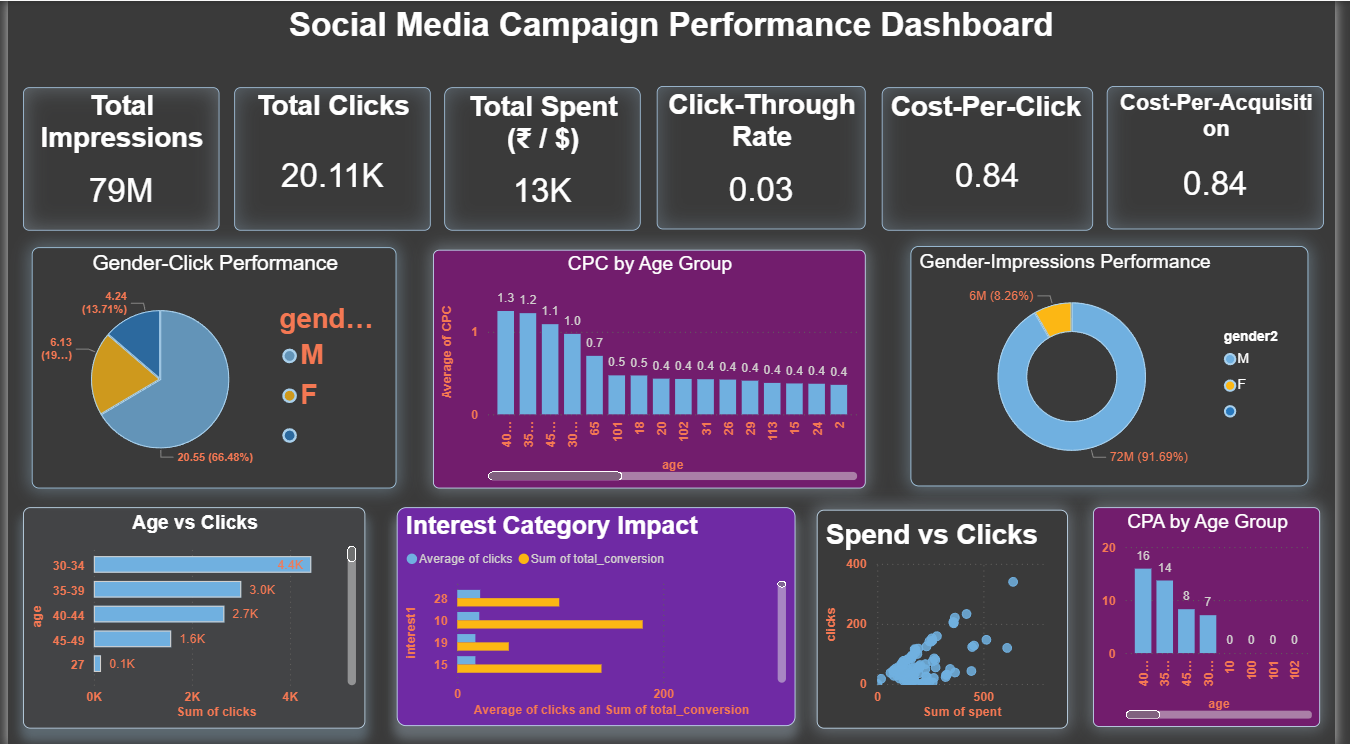

This screenshot's page, from the dashboard's own definition file:
{"tool":"powerbi","page":{"name":"Page 1","canvas":[1280,720],"ordinal":0},"visuals":[{"type":"textbox","box":[0,14.5,1280.2,55.7],"z":0},{"type":"card","title":"Total Impressions","fields":{"Values":["Sum(data.ipressions)"]},"box":[14.5,83.2,189.4,138.7],"z":1000},{"type":"card","title":"Total Spent (₹ / $)","fields":{"Values":["Sum(data.clicks)"]},"box":[421,83.2,189.4,138.7],"z":2000},{"type":"card","title":"Total Clicks","fields":{"Values":["Sum(data.spent)"]},"box":[218.4,83.2,189.4,138.7],"z":3000},{"type":"card","title":"Click-Through Rate","fields":{"Values":["Avg(data.CTR)"]},"box":[626.1,82,201.5,138.7],"z":4000},{"type":"card","title":"Cost-Per-Acquisition","fields":{"Values":["Avg(data.CPC)"]},"box":[1060.5,82,209.9,138.7],"z":5000},{"type":"card","title":"Cost-Per-Click","fields":{"Values":["Avg(data.CPC)"]},"box":[843.3,83.2,203.9,138.7],"z":6000},{"type":"clusteredBarChart","title":"Age vs Clicks","fields":{"Category":["data.age"],"Y":["Sum(data.clicks)"]},"box":[14.5,488.6,330.6,213.5],"z":7000},{"type":"pieChart","title":"Gender-Click Performance","fields":{"Y":["Avg(data.clicks)"],"Category":["data.gender2"]},"box":[22.9,237.7,352.3,232.8],"z":8000},{"type":"donutChart","title":"Gender-Impressions Performance","fields":{"Y":["Sum(data.ipressions)"],"Category":["data.gender2"]},"box":[871.1,236.5,383.6,231.6],"z":9000},{"type":"clusteredColumnChart","title":"CPA by Age Group","fields":{"Y":["Avg(data.CPA)"],"Category":["data.age"]},"box":[1047.2,488.6,219.6,212.3],"z":10000},{"type":"clusteredColumnChart","title":"CPC by Age Group","fields":{"Category":["data.age"],"Y":["Avg(data.CPC)"]},"box":[410.2,240.1,417.4,230.4],"z":11000},{"type":"scatterChart","title":"Spend vs Clicks","fields":{"Y":["data.clicks"],"X":["data.spent"]},"box":[780.6,491,242.5,211.1],"z":12000},{"type":"clusteredBarChart","title":"Interest Category Impact","fields":{"Category":["data.interest1","data.interest2","data.interest3"],"Y":["Avg(data.clicks)","Sum(data.total_conversion)"]},"box":[375,490.5,384.5,211.9],"z":13000}]}

Visuals, with their boxes in screenshot pixels (x1, y1, x2, y2), scaled from the page's 1280x720 canvas onto the 1350x744 screenshot:
textbox: Rect(0, 15, 1349, 73)
"Total Impressions" card: Rect(15, 86, 215, 229)
"Total Spent (₹ / $)" card: Rect(444, 86, 644, 229)
"Total Clicks" card: Rect(230, 86, 430, 229)
"Click-Through Rate" card: Rect(660, 85, 873, 228)
"Cost-Per-Acquisition" card: Rect(1118, 85, 1340, 228)
"Cost-Per-Click" card: Rect(889, 86, 1104, 229)
"Age vs Clicks" clusteredBarChart: Rect(15, 505, 364, 726)
"Gender-Click Performance" pieChart: Rect(24, 246, 396, 486)
"Gender-Impressions Performance" donutChart: Rect(919, 244, 1323, 484)
"CPA by Age Group" clusteredColumnChart: Rect(1104, 505, 1336, 724)
"CPC by Age Group" clusteredColumnChart: Rect(433, 248, 873, 486)
"Spend vs Clicks" scatterChart: Rect(823, 507, 1079, 726)
"Interest Category Impact" clusteredBarChart: Rect(396, 507, 801, 726)
